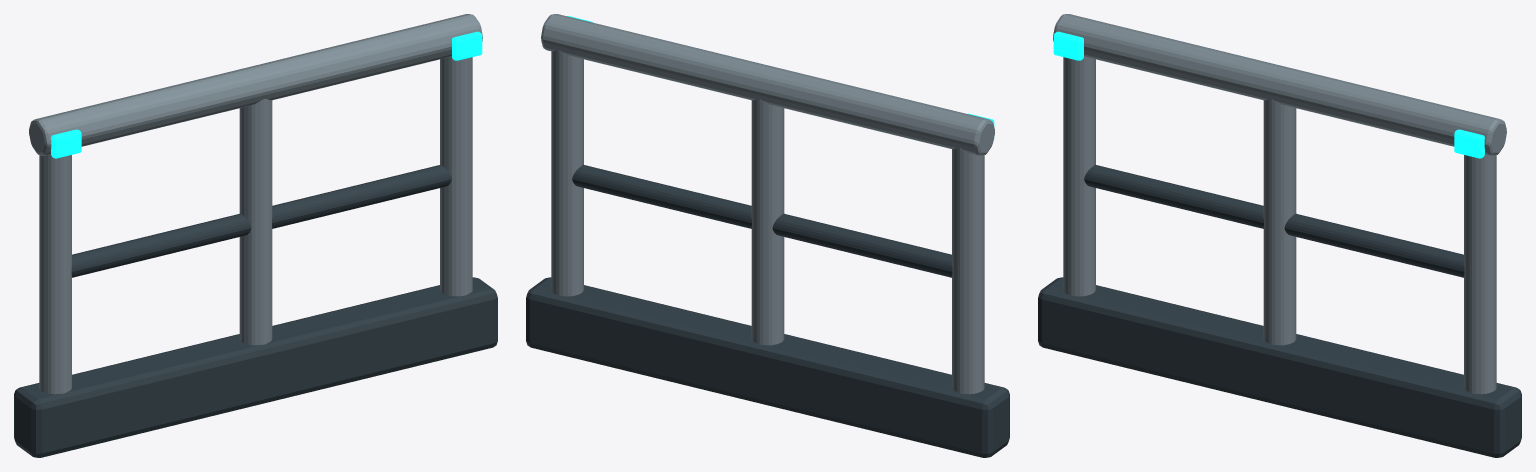
The model's file is Railing-Module.glb.
3 views of the same model, side by side, from view 1: azimuth 30°, elevation 25°; view 2: azimuth 150°, elevation 25°; view 3: azimuth 330°, elevation 25° (orthographic).
Visible parts, largest first — view 1: Railing_Base, Railing_TopRail, Railing_MidRail, Railing_Post_1, Railing_Post_0, Railing_Post_2, Railing_CyanMarker, Railing_CyanMarker.001; view 2: Railing_Base, Railing_TopRail, Railing_MidRail, Railing_Post_1, Railing_Post_0, Railing_Post_2; view 3: Railing_Base, Railing_TopRail, Railing_MidRail, Railing_Post_1, Railing_Post_2, Railing_Post_0, Railing_CyanMarker, Railing_CyanMarker.001.
Boxes of the visible parts, box(x1,y1,x2,y2) form: Railing_Base: box(14, 277, 497, 457); Railing_TopRail: box(29, 14, 482, 155); Railing_MidRail: box(71, 165, 451, 277); Railing_Post_1: box(239, 99, 272, 345); Railing_Post_0: box(39, 154, 71, 394); Railing_Post_2: box(440, 56, 472, 296); Railing_CyanMarker: box(51, 129, 81, 158); Railing_CyanMarker.001: box(452, 31, 482, 60); Railing_Base: box(526, 277, 1009, 457); Railing_TopRail: box(541, 14, 994, 155); Railing_MidRail: box(572, 165, 952, 277); Railing_Post_1: box(751, 99, 784, 345); Railing_Post_0: box(952, 147, 984, 394); Railing_Post_2: box(551, 50, 583, 296); Railing_Base: box(1038, 277, 1521, 457); Railing_TopRail: box(1053, 14, 1506, 155); Railing_MidRail: box(1084, 165, 1464, 277); Railing_Post_1: box(1263, 99, 1296, 345); Railing_Post_2: box(1464, 154, 1496, 394); Railing_Post_0: box(1063, 56, 1095, 296); Railing_CyanMarker: box(1053, 31, 1083, 60); Railing_CyanMarker.001: box(1454, 129, 1484, 158).
Size of the model in its own units: 2 by 1.35 by 0.1875.
